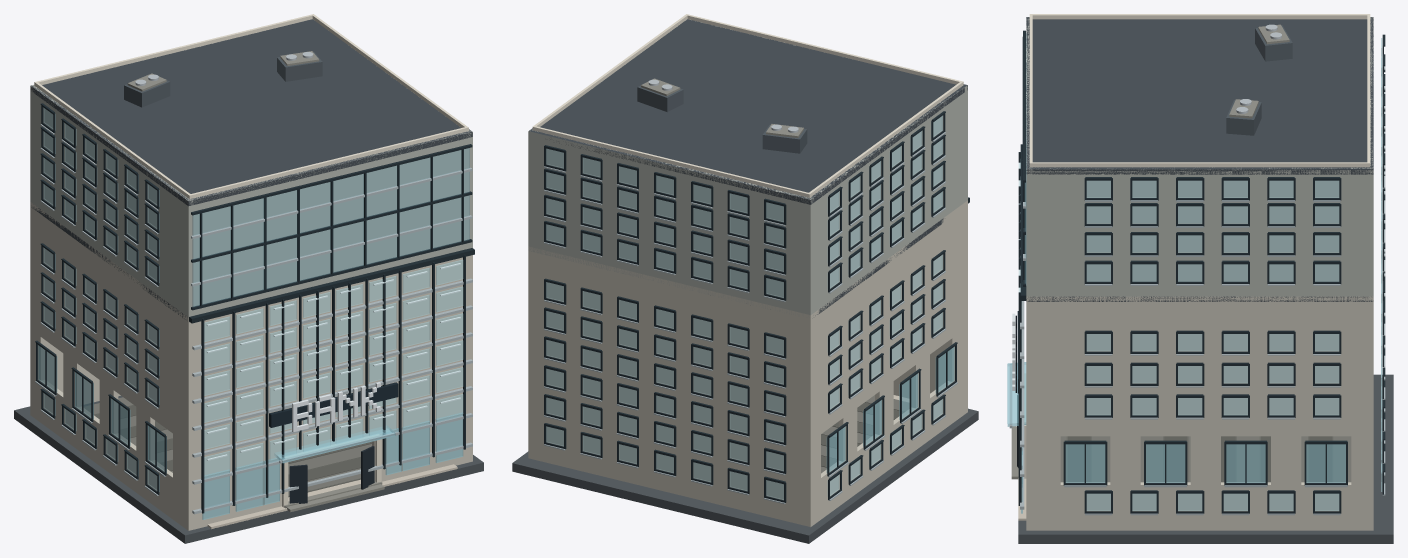
Rendered from bank-building.glb.
3 views of the same model, side by side, from view 1: azimuth 30°, elevation 25°; view 2: azimuth 150°, elevation 25°; view 3: azimuth 270°, elevation 25° (orthographic). The views are drawn at different scales.
Visible parts, largest first — view 1: bank_exterior_detail, bank_cutaway_roof, bank_cutaway_upper, bank_hull_wall_front, bank_hull_wall_left, bank_foundation, bank_interior, bank_hull_wall_back, bank_hull_wall_right; view 2: bank_exterior_detail, bank_hull_wall_back, bank_cutaway_roof, bank_cutaway_upper, bank_hull_wall_left, bank_foundation, bank_hull_wall_front, bank_interior; view 3: bank_hull_wall_right, bank_cutaway_roof, bank_exterior_detail, bank_cutaway_upper, bank_foundation, bank_interior, bank_hull_wall_back, bank_hull_wall_front.
Part boxes in pixels (bbox=[...]): bank_exterior_detail: bbox=[40, 103, 474, 519]; bank_cutaway_roof: bbox=[31, 14, 472, 322]; bank_cutaway_upper: bbox=[30, 35, 472, 318]; bank_hull_wall_front: bbox=[186, 255, 472, 530]; bank_hull_wall_left: bbox=[30, 202, 193, 530]; bank_foundation: bbox=[14, 395, 483, 543]; bank_interior: bbox=[84, 397, 371, 497]; bank_hull_wall_back: bbox=[30, 202, 120, 416]; bank_hull_wall_right: bbox=[468, 255, 472, 462]; bank_exterior_detail: bbox=[544, 111, 969, 504]; bank_hull_wall_back: bbox=[528, 246, 813, 526]; bank_cutaway_roof: bbox=[529, 14, 967, 315]; bank_cutaway_upper: bbox=[528, 19, 967, 315]; bank_hull_wall_left: bbox=[806, 201, 967, 526]; bank_foundation: bbox=[512, 395, 978, 543]; bank_hull_wall_front: bbox=[893, 200, 967, 413]; bank_interior: bbox=[821, 395, 909, 473]; bank_hull_wall_right: bbox=[1026, 296, 1373, 530]; bank_cutaway_roof: bbox=[1026, 14, 1373, 301]; bank_exterior_detail: bbox=[1007, 30, 1385, 515]; bank_cutaway_upper: bbox=[1026, 17, 1373, 301]; bank_foundation: bbox=[1011, 374, 1393, 543]; bank_interior: bbox=[1060, 436, 1351, 482]; bank_hull_wall_back: bbox=[1367, 296, 1373, 530]; bank_hull_wall_front: bbox=[1026, 296, 1032, 530].
Bounding box in the file's own units: 22.8 × 26.25 × 23.24.
